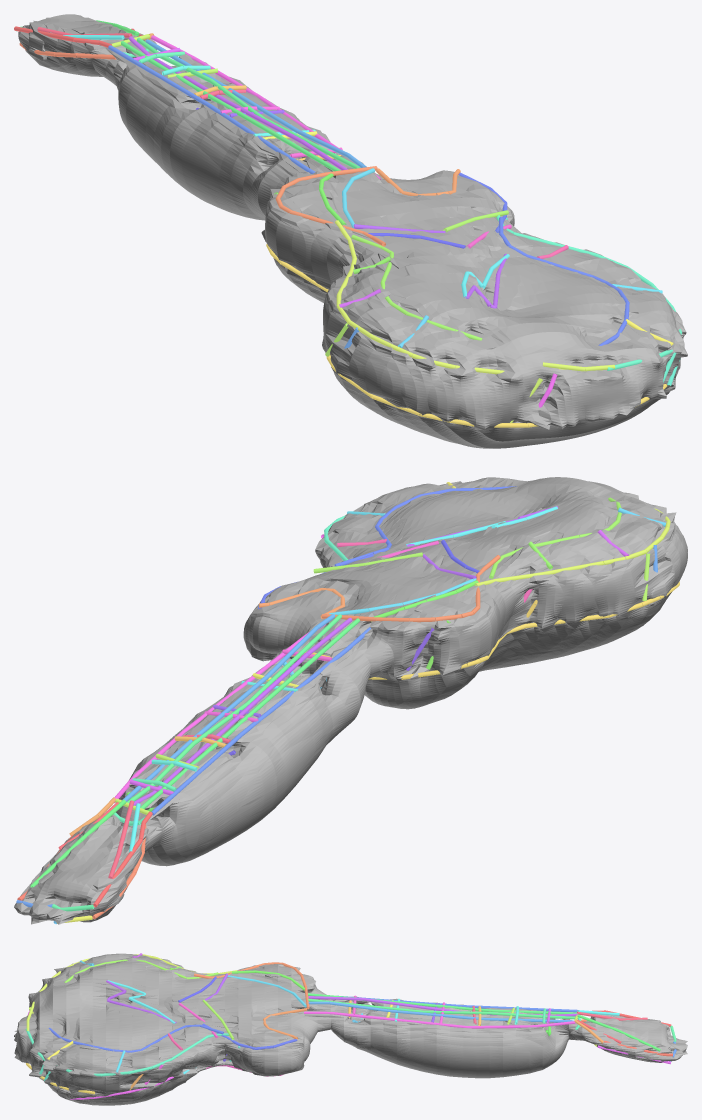
Rendered from author2_guitar.gltf.
3 renders of one model, top to bottom at view 1: azimuth 30°, elevation 25°; view 2: azimuth 150°, elevation 25°; view 3: azimuth 270°, elevation 25°, orthographic. The views are drawn at different scales.
Size of the model in its own units: 0.3307 by 0.1469 by 0.9659.
